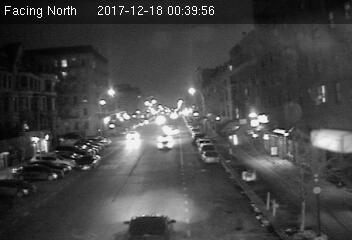car: (75, 154, 101, 169), (201, 149, 221, 162), (155, 138, 175, 150), (124, 130, 142, 141)
